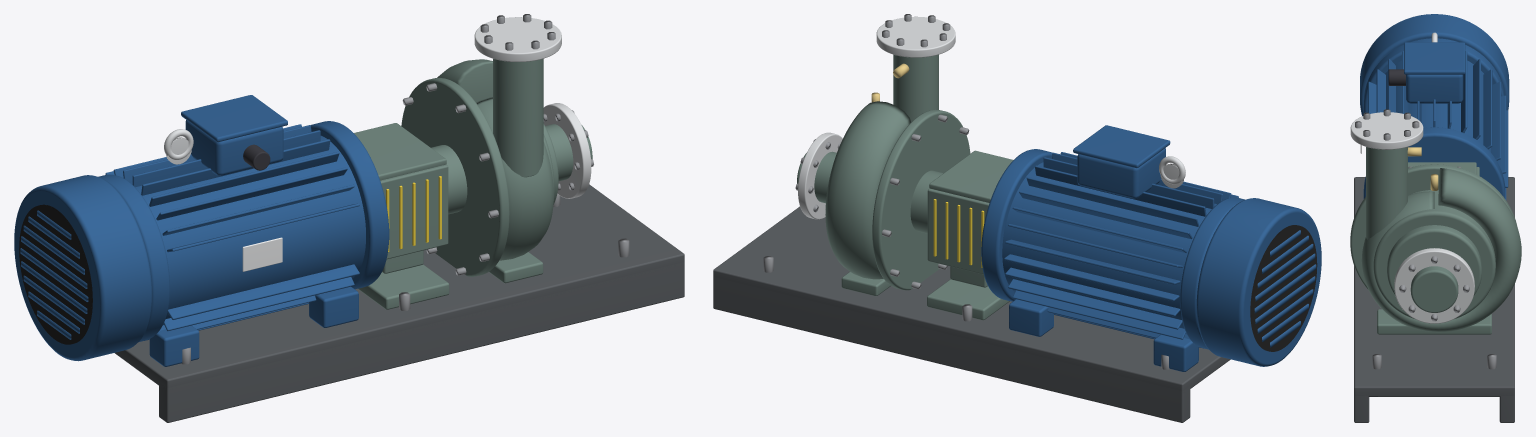
The model's file is pump_set.glb.
3 renders of one model, left to right at view 1: azimuth 30°, elevation 25°; view 2: azimuth 150°, elevation 25°; view 3: azimuth 270°, elevation 25°, orthographic. The views are drawn at different scales.
Parts seen in each view (by area): view 1: Baseplate | top, Baseplate | channel, Motor | frame, Motor | fan cowl, Pump | back cover, Pump | volute casing, Pump | discharge neck, Motor | fan cowl grille, Lantern | side web, Motor | drive-end shield, Motor | non-drive-end shield, Lantern | top bridge (+21 smaller); view 2: Baseplate | top, Baseplate | channel.001, Motor | frame, Motor | fan cowl, Pump | back cover, Pump | volute casing, Motor | fan cowl grille, Lantern | side web.001, Motor | drive-end shield, Motor | terminal box, Motor | non-drive-end shield, Lantern | top bridge (+23 smaller); view 3: Baseplate | top, Pump | volute casing, Motor | fan cowl, Pump | casing core, Pump | discharge neck, Motor | drive-end shield, Pump | suction flange, Pump | suction eye cover, Motor | terminal box lid, Motor | frame, Pump | discharge flange, Pump | back cover (+18 smaller).
Part boxes in pixels (x1,y1,x2,y2): Baseplate | top: (115,184,684,389); Baseplate | channel: (159,262,684,422); Motor | frame: (130,135,365,324); Motor | fan cowl: (14,175,151,361); Pump | back cover: (401,78,509,276); Pump | volute casing: (437,59,553,260); Pump | discharge neck: (493,58,543,177); Motor | fan cowl grille: (19,204,92,344); Lantern | side web: (380,164,448,259); Motor | drive-end shield: (310,121,389,289); Motor | non-drive-end shield: (98,174,169,341); Lantern | top bridge: (354,123,446,180); Baseplate | top: (713,206,1230,392); Baseplate | channel.001: (713,277,1190,422); Motor | frame: (1002,162,1216,334); Motor | fan cowl: (1196,198,1321,366); Pump | back cover: (872,109,970,290); Pump | volute casing: (825,101,910,279); Motor | fan cowl grille: (1250,225,1317,351); Lantern | side web.001: (927,188,989,274); Motor | drive-end shield: (981,149,1052,301); Motor | terminal box: (1077,148,1165,198); Motor | non-drive-end shield: (1180,197,1244,349); Lantern | top bridge: (929,150,1013,202); Baseplate | top: (1354,177,1514,396); Pump | volute casing: (1361,168,1521,332); Motor | fan cowl: (1360,14,1509,115); Pump | casing core: (1373,190,1495,318); Pump | discharge neck: (1366,147,1407,239); Motor | drive-end shield: (1363,127,1505,198); Pump | suction flange: (1394,248,1474,323); Pump | suction eye cover: (1387,225,1481,295); Motor | terminal box lid: (1404,42,1465,74); Motor | frame: (1385,60,1490,152); Pump | discharge flange: (1350,112,1423,149); Pump | back cover: (1350,164,1516,289).
Bounding box in the file's own units: 1.46 × 0.694 × 0.4474.
